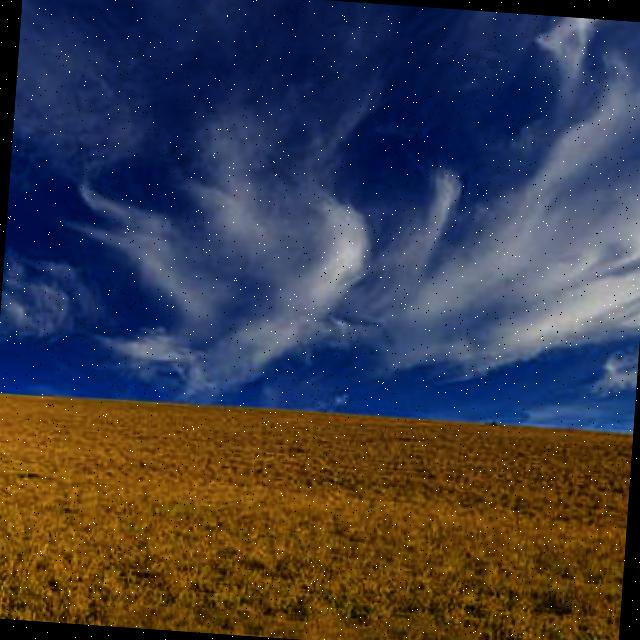Ci: (63, 4, 640, 411)
